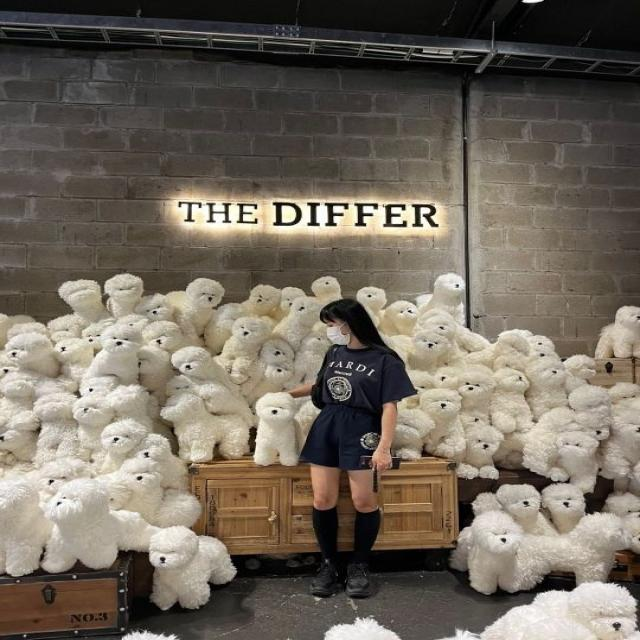shortpants: (300, 415, 390, 469)
shortsleeve: (307, 338, 413, 412)
